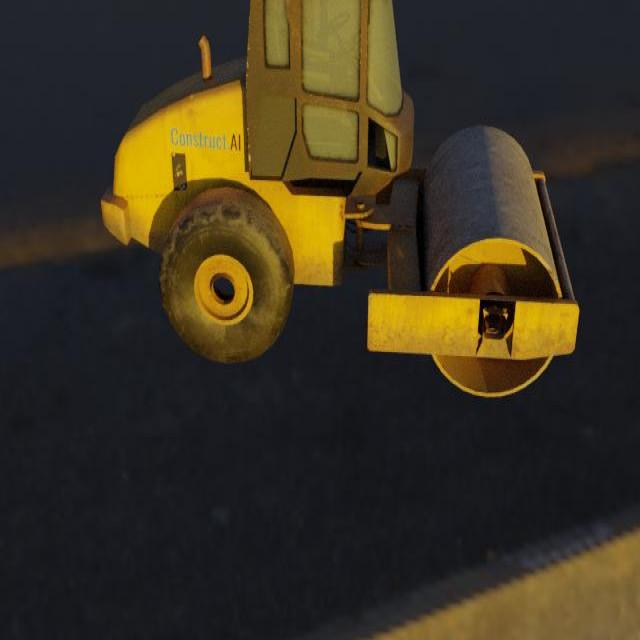Roller: (100, 0, 579, 399)
